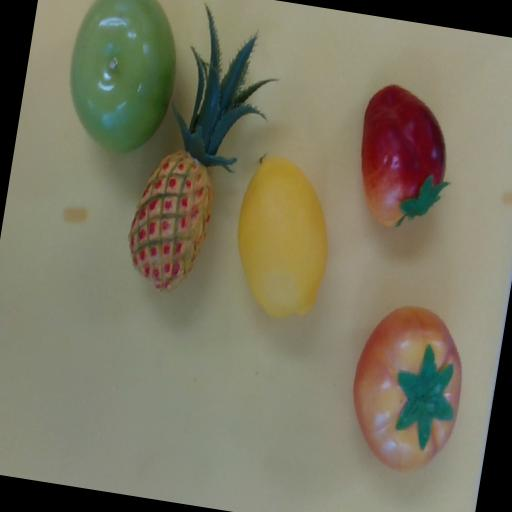apple: (69, 0, 175, 152)
lemon: (227, 151, 335, 321)
mango: (349, 78, 454, 230)
pineapple: (85, 5, 297, 297)
tomato: (343, 300, 470, 477)
